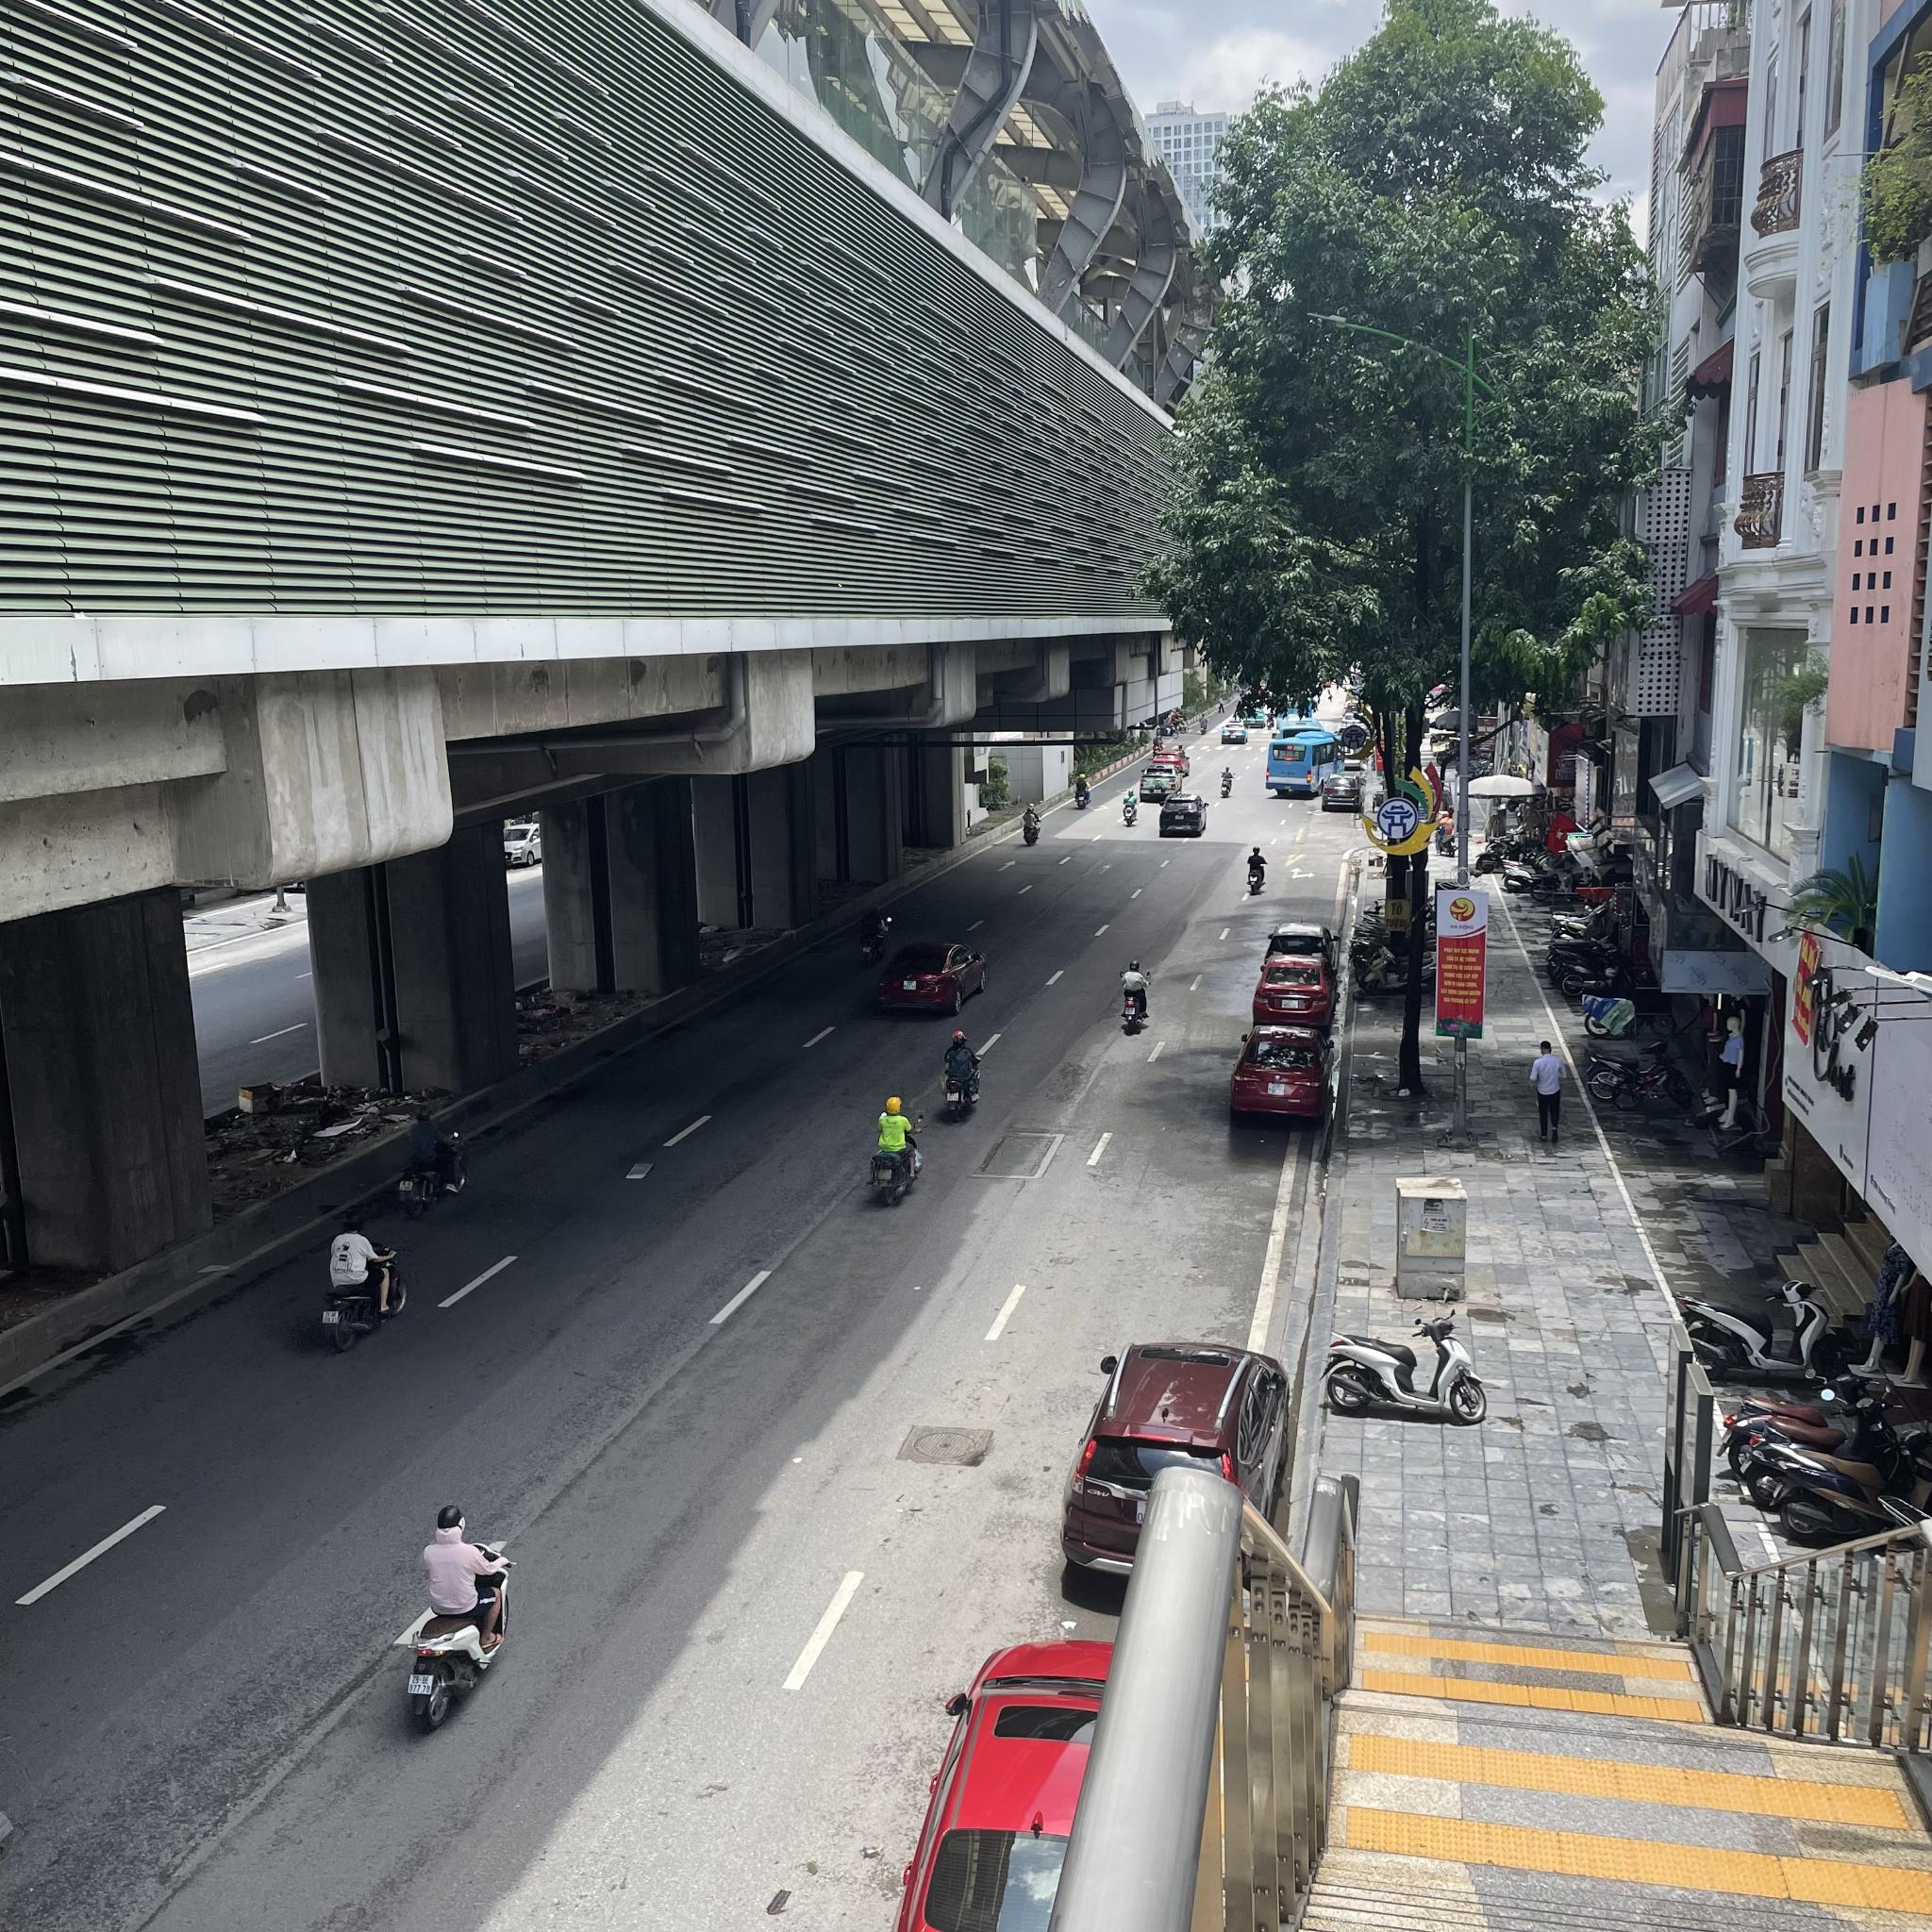car: (1042, 1348, 1292, 1585), (862, 934, 977, 1010), (1242, 1016, 1313, 1138), (1261, 736, 1343, 793), (1161, 793, 1207, 842), (1318, 775, 1357, 810), (1138, 770, 1185, 794)
motobike: (400, 1481, 513, 1737), (1329, 1311, 1493, 1422), (313, 1212, 410, 1348), (391, 1102, 467, 1219), (865, 1095, 924, 1210), (941, 1035, 978, 1122), (1120, 955, 1157, 1028), (1019, 800, 1047, 846), (1244, 846, 1269, 890), (1070, 775, 1097, 812), (1120, 789, 1143, 828), (1217, 770, 1238, 801)
